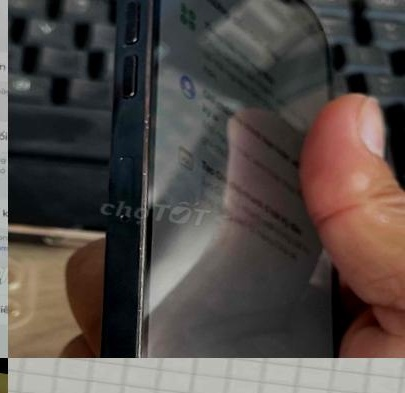scratch: (85, 31, 188, 275)
